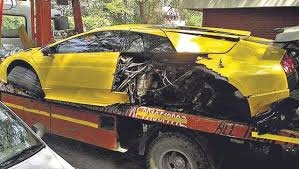Smashed: (118, 49, 251, 120), (1, 58, 48, 94), (257, 97, 299, 130)
